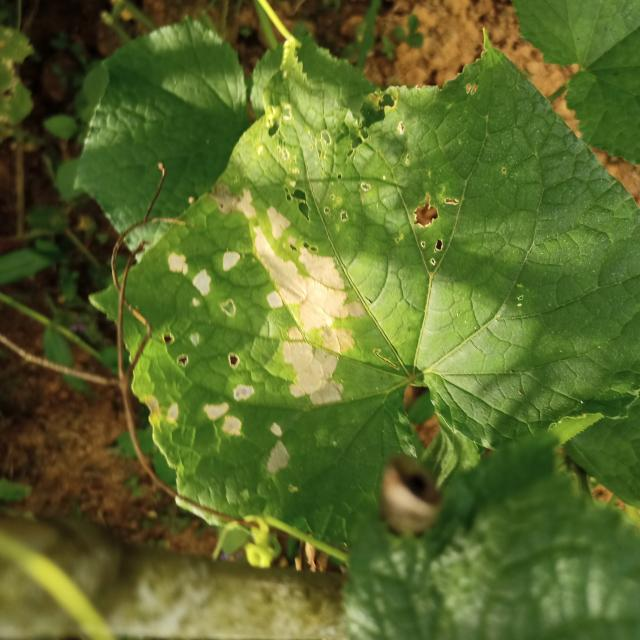disease_cucumber: (148, 180, 358, 480)
